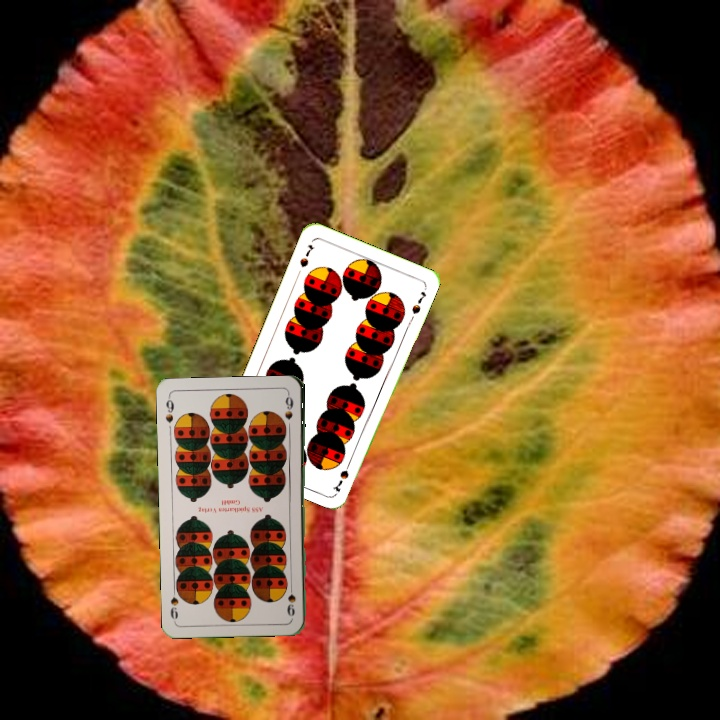S7: (329, 456, 354, 494), (296, 240, 316, 270)
S9: (285, 579, 298, 619), (161, 393, 176, 425)
